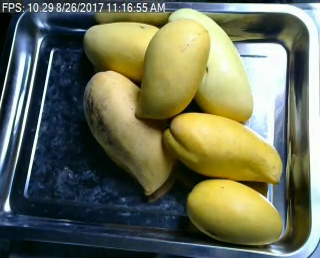Mango: (83, 69, 176, 193), (168, 7, 251, 122), (163, 114, 281, 182), (131, 19, 209, 116), (186, 178, 281, 244), (83, 20, 168, 81)
